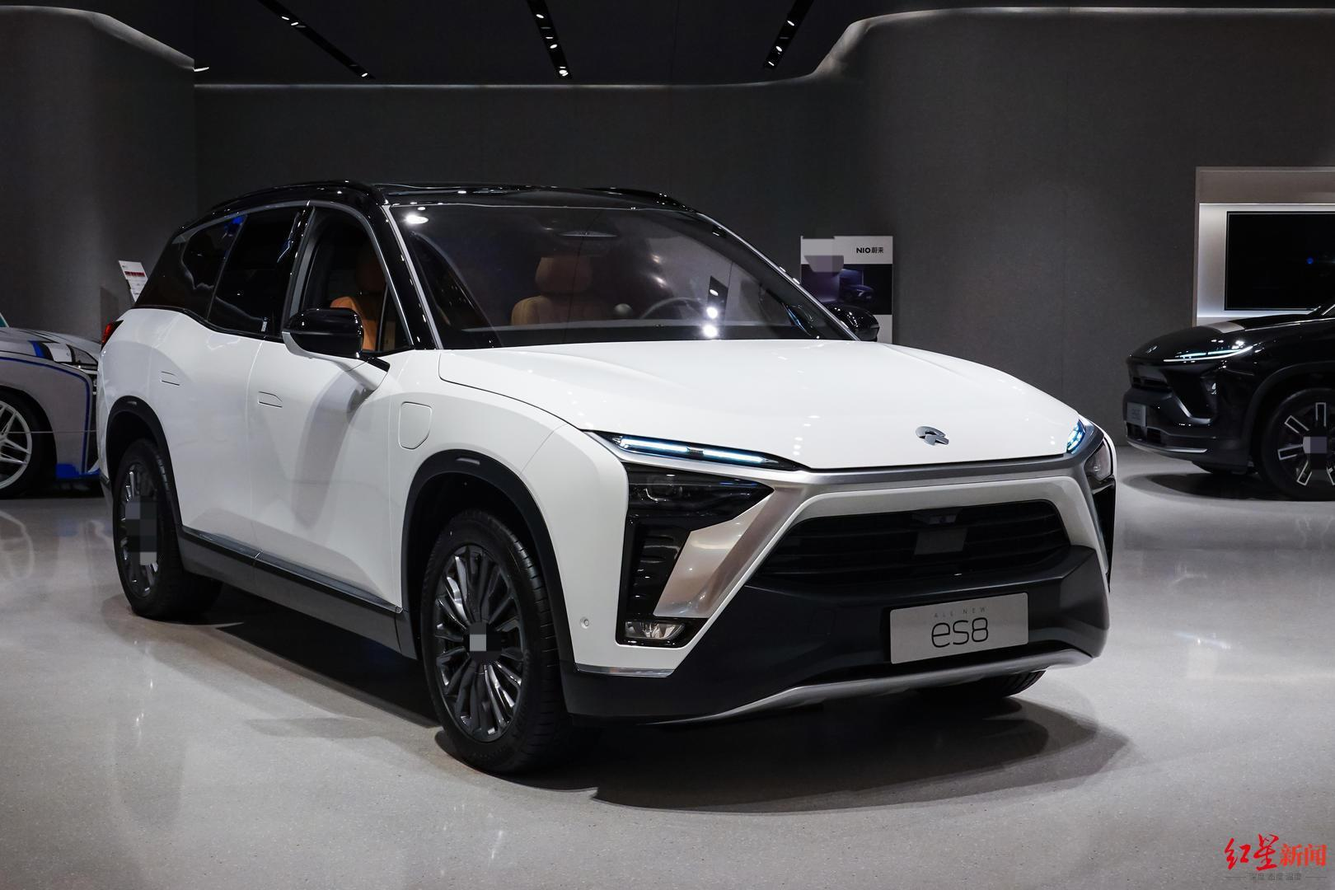NIO: (915, 426, 949, 446)
